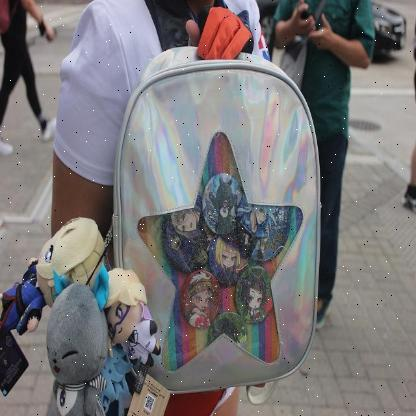bag: (104, 41, 328, 403)
